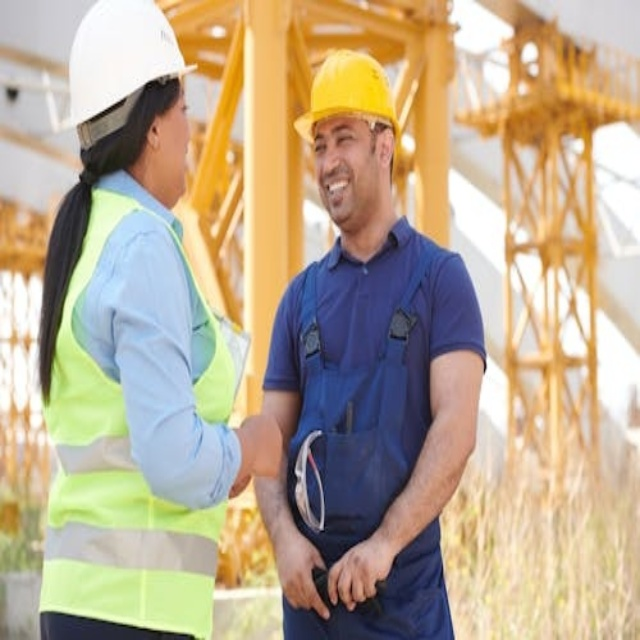Sin_gafas: (311, 123, 365, 154)
Sin_guantes: (275, 526, 333, 619), (326, 536, 393, 612)
Sin_mascara: (319, 171, 358, 217)
